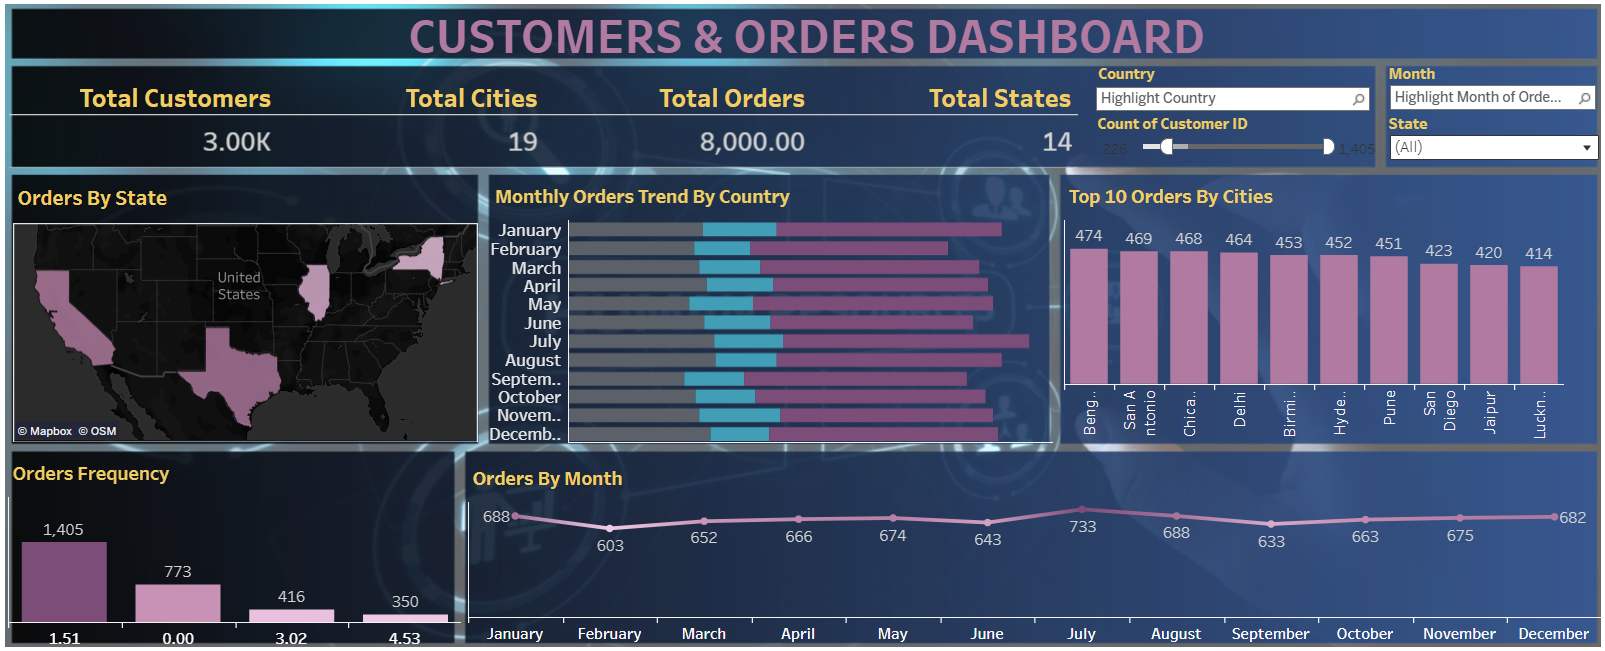

What the dashboard file says about the page in this screenshot:
{"tool":"tableau","page":{"name":"Final Dashboard","canvas":[1339,539],"ordinal":1},"visuals":[{"type":"image","param":"Image/HR_Dashboard_Background_1339x539.png","box":[8,8,1323,523]},{"type":"text","box":[21,15,1265,42]},{"type":"highlighter","title":"Monthly Orders Trend By Country","param":"[federated.18rfy3m1rrcj111dno0x304yty26].[none:Country:nk]","box":[884,58,221,44]},{"type":"highlighter","title":"Order by month","param":"[federated.18rfy3m1rrcj111dno0x304yty26].[mn:Order_Date:ok]","box":[1119,58,167,49]},{"type":"worksheet","title":"KPIS","mark":"Automatic","box":[15,60,855,83]},{"type":"filter","title":"Monthly Order Trends","param":"[federated.18rfy3m1rrcj111dno0x304yty26].[cnt:Customer_ID:qk]","box":[886,98,226,48]},{"type":"filter","title":"orders by state","param":"[federated.18rfy3m1rrcj111dno0x304yty26].[attr:State:nk]","box":[1119,98,169,44]},{"type":"worksheet","title":"orders by state","mark":"Multipolygon","box":[18,149,372,213]},{"type":"worksheet","title":"Monthly Orders Trend By Country","mark":"Bar","rows":["Order_Date"],"cols":["Order_ID"],"box":[400,149,450,214]},{"type":"worksheet","title":"top 10 orders by cities","mark":"Bar","rows":["Order_ID"],"cols":["City"],"box":[859,149,428,210]},{"type":"worksheet","title":"Monthly Order Trends","mark":"Bar","rows":["Customer_ID"],"cols":["order frequency (bin)"],"box":[14,370,363,156]},{"type":"worksheet","title":"Order by month","mark":"Automatic","rows":["Order_ID"],"cols":["Order_Date"],"box":[382,374,907,148]}]}

Visuals, with their boxes in screenshot pixels (x1, y1, x2, y2), scaled from the page's 1339x539 canvas onto the 1605x651 screenshot:
image: Rect(10, 10, 1595, 641)
text: Rect(25, 18, 1541, 69)
"Monthly Orders Trend By Country" highlighter: Rect(1060, 70, 1325, 123)
"Order by month" highlighter: Rect(1341, 70, 1541, 129)
"KPIS" worksheet: Rect(18, 72, 1043, 173)
"Monthly Order Trends" filter: Rect(1062, 118, 1333, 176)
"orders by state" filter: Rect(1341, 118, 1544, 172)
"orders by state" worksheet (Multipolygon marks): Rect(22, 180, 467, 437)
"Monthly Orders Trend By Country" worksheet (Bar marks): Rect(479, 180, 1019, 438)
"top 10 orders by cities" worksheet (Bar marks): Rect(1030, 180, 1543, 434)
"Monthly Order Trends" worksheet (Bar marks): Rect(17, 447, 452, 635)
"Order by month" worksheet: Rect(458, 452, 1545, 630)
